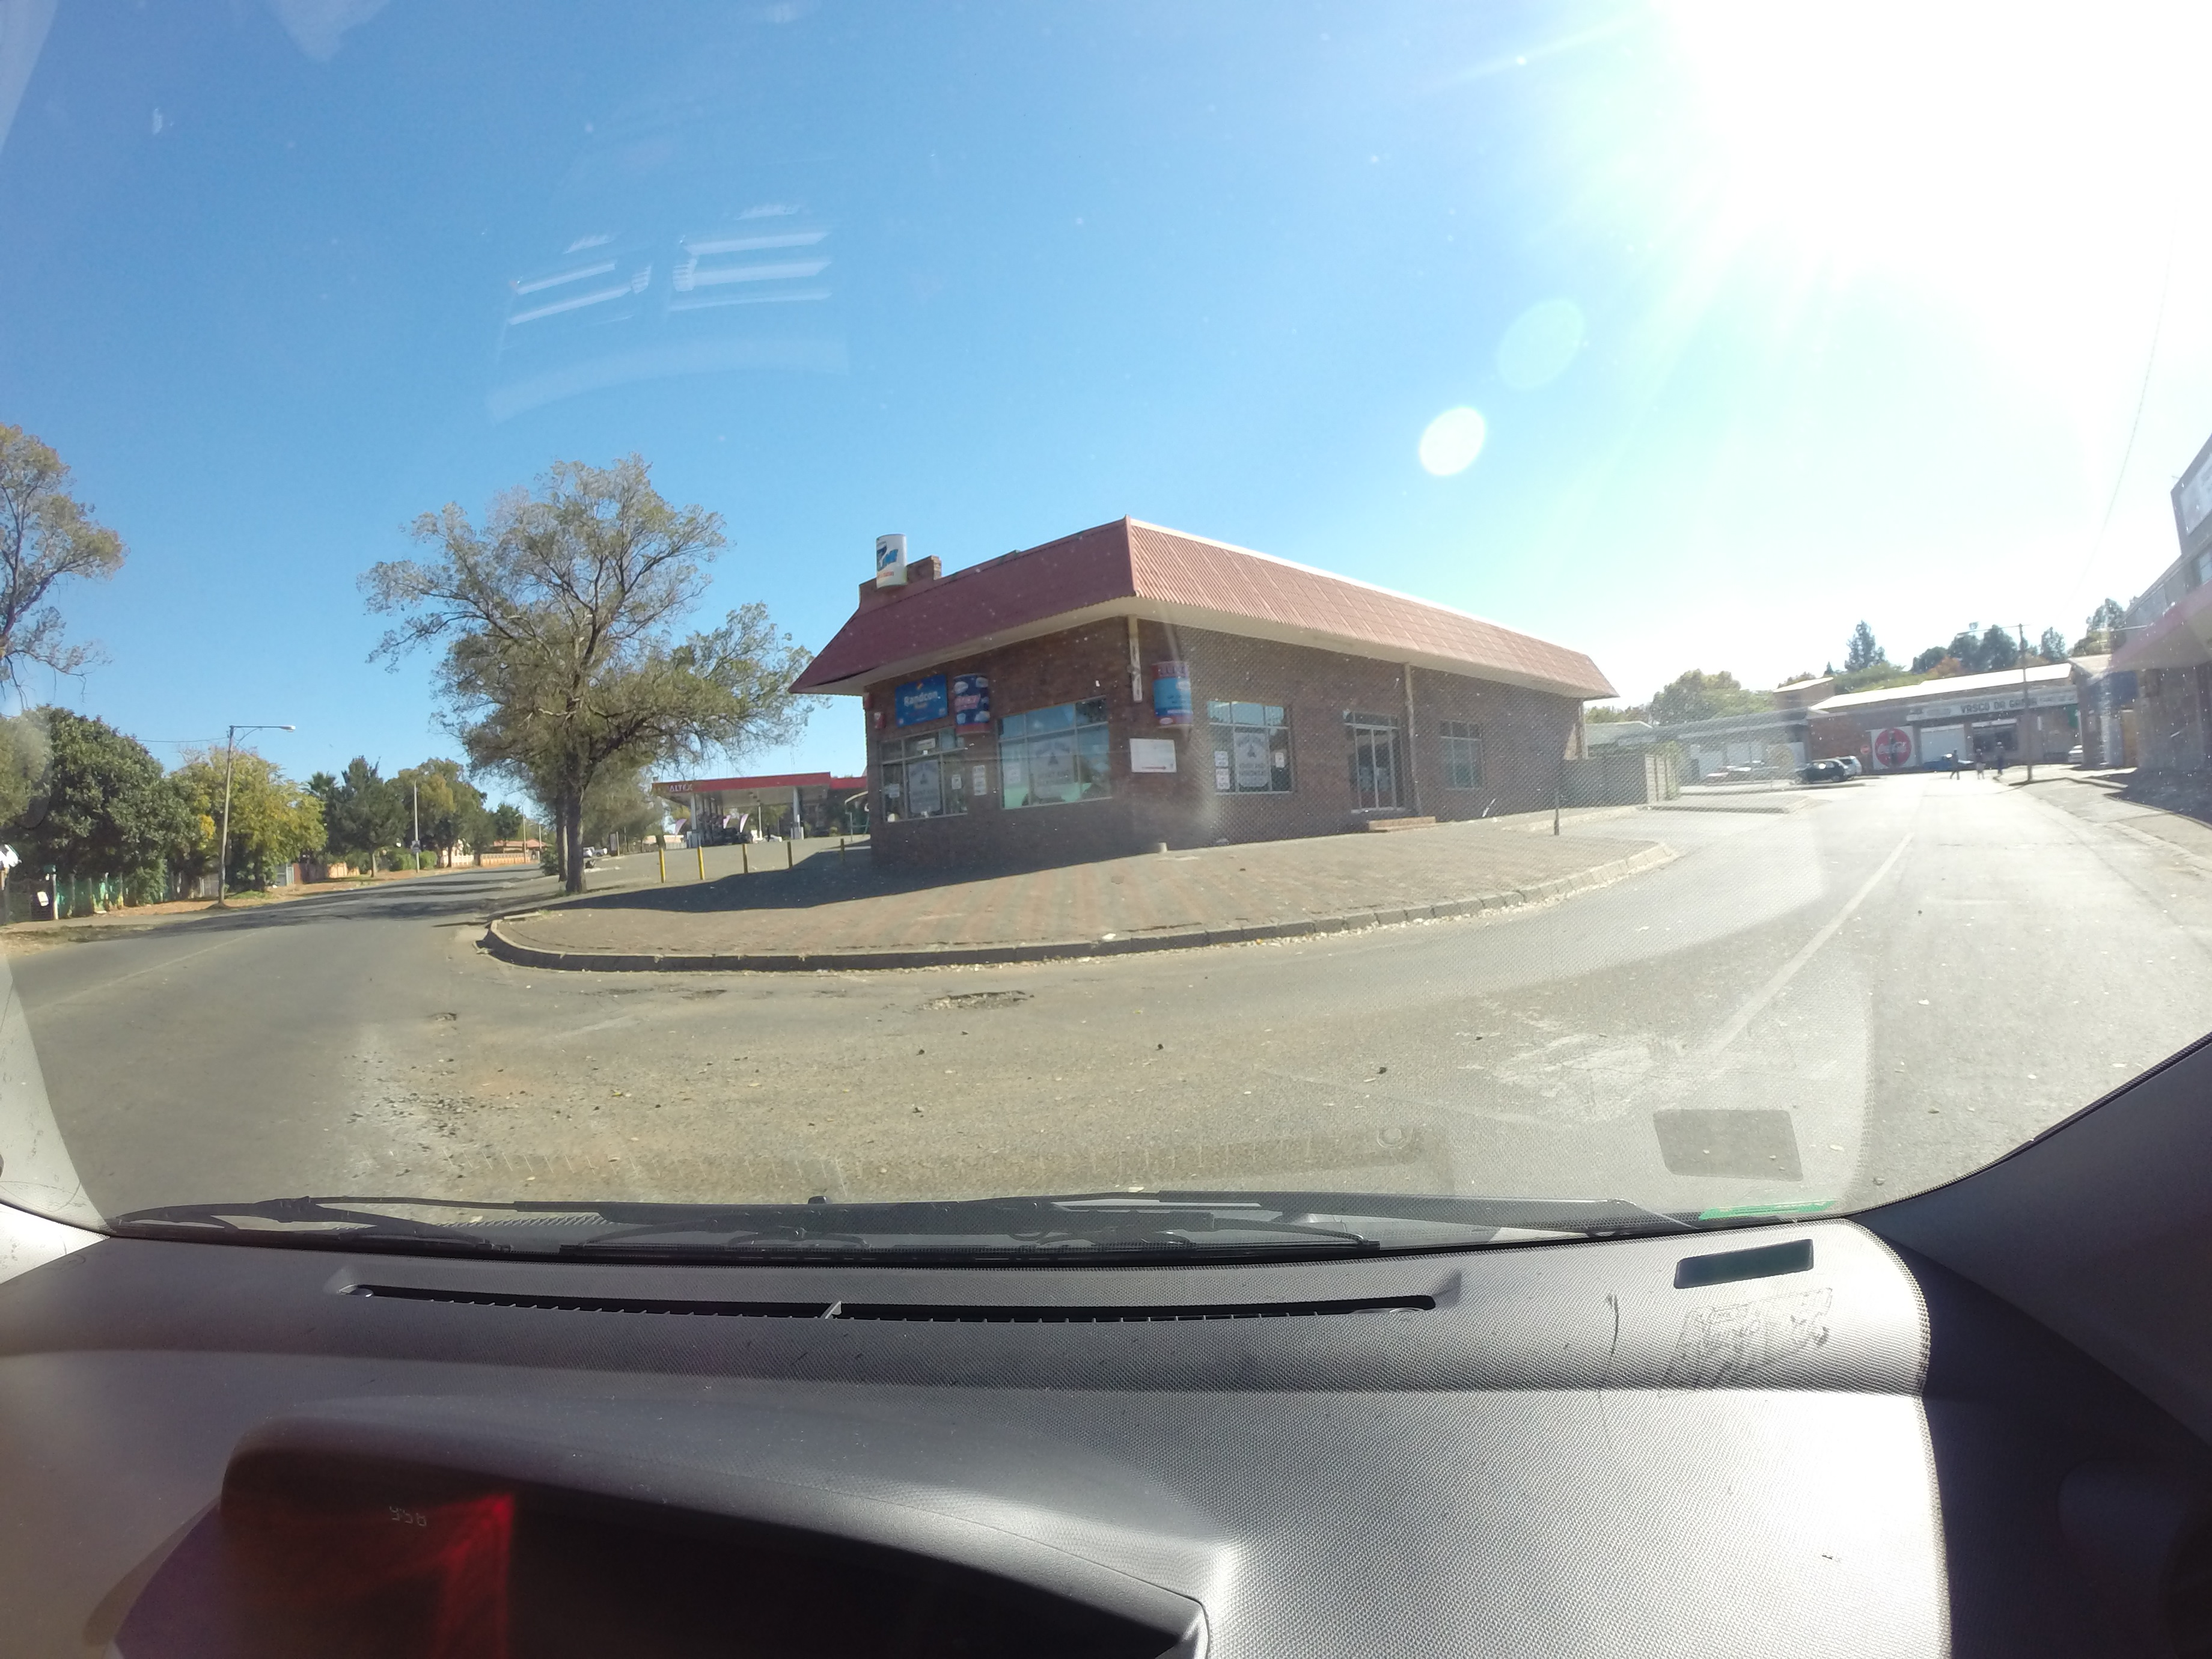pothole: (897, 962, 1127, 1072), (373, 992, 519, 1058)
